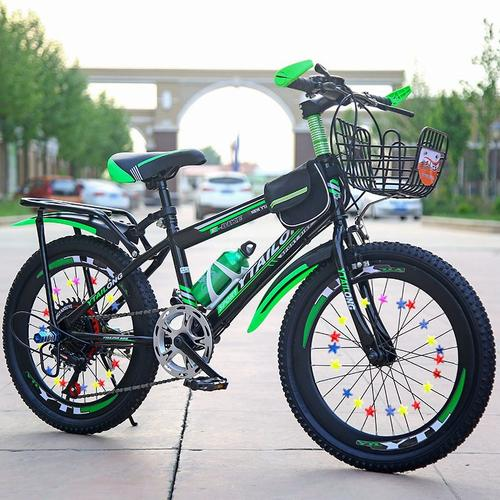单车: (2, 47, 500, 477)
